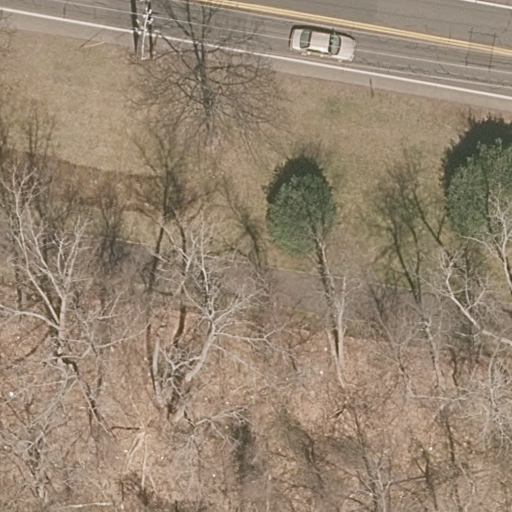DT: (134, 3, 161, 59)
